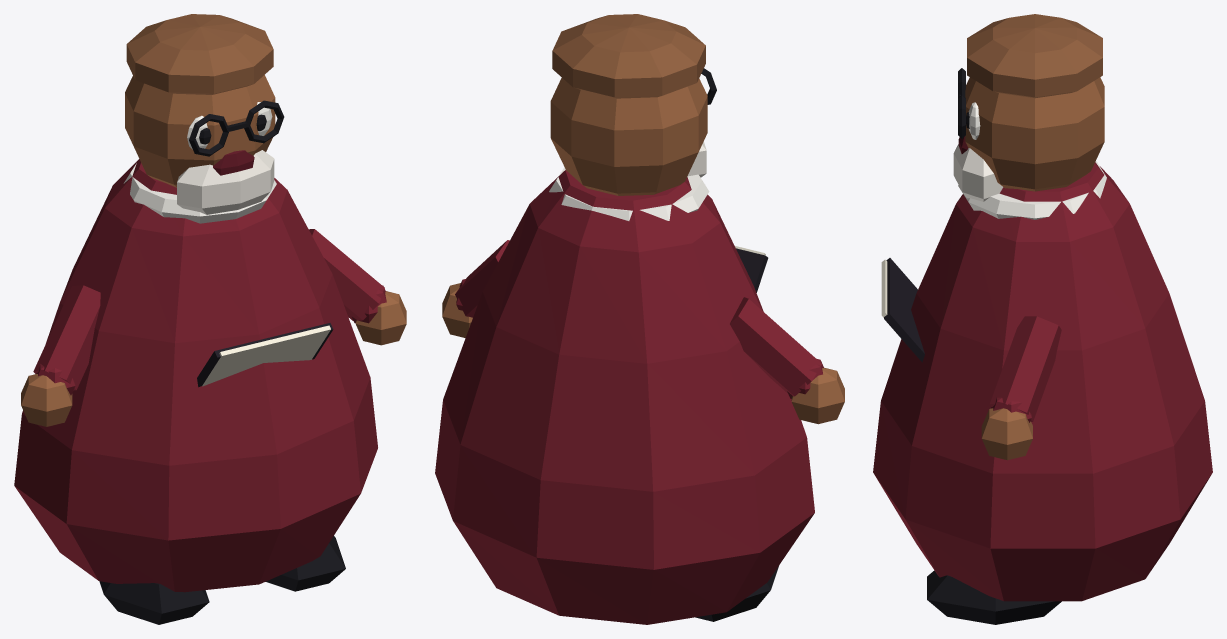
The model's file is npc_corista_b.glb.
3 views of the same model, side by side, from view 1: azimuth 30°, elevation 25°; view 2: azimuth 150°, elevation 25°; view 3: azimuth 270°, elevation 25° (orthographic). The views are drawn at different scales.
Parts seen in each view (by area): view 1: body_robe_cloth, cap_bald_cacao, head_skin_cacao, arms_robe_cloth, legs_black, face_beard, arms_skin_cacao, props_songbook_pages, body_white, face_black, props_songbook_cover, face_mouth; view 2: body_robe_cloth, head_skin_cacao, cap_bald_cacao, arms_robe_cloth, arms_skin_cacao, body_white, legs_black, props_songbook_cover; view 3: body_robe_cloth, head_skin_cacao, cap_bald_cacao, arms_robe_cloth, legs_black, arms_skin_cacao, props_songbook_cover, body_white, face_beard, face_black.
Part boxes in pixels (x1,y1,x2,y2): body_robe_cloth: [14, 159, 377, 592]; cap_bald_cacao: [126, 14, 273, 94]; head_skin_cacao: [125, 75, 275, 187]; arms_robe_cloth: [33, 229, 386, 395]; legs_black: [99, 536, 345, 624]; face_beard: [177, 150, 274, 214]; arms_skin_cacao: [21, 291, 406, 426]; props_songbook_pages: [202, 325, 330, 386]; body_white: [123, 163, 276, 223]; face_black: [189, 100, 284, 156]; props_songbook_cover: [197, 323, 333, 387]; face_mouth: [213, 150, 254, 175]; body_robe_cloth: [435, 170, 814, 624]; head_skin_cacao: [550, 77, 707, 195]; cap_bald_cacao: [552, 14, 705, 98]; arms_robe_cloth: [455, 240, 823, 398]; arms_skin_cacao: [442, 283, 844, 424]; body_white: [549, 167, 709, 220]; legs_black: [695, 566, 778, 621]; props_songbook_cover: [736, 248, 768, 292]; body_robe_cloth: [873, 162, 1212, 601]; head_skin_cacao: [965, 77, 1104, 191]; cap_bald_cacao: [967, 14, 1102, 98]; arms_robe_cloth: [990, 316, 1061, 422]; legs_black: [927, 570, 1061, 624]; arms_skin_cacao: [981, 408, 1032, 460]; props_songbook_cover: [884, 258, 924, 362]; body_white: [958, 161, 1106, 219]; face_beard: [953, 144, 1003, 201]; face_black: [958, 68, 969, 138].
Bounding box in the file's own units: 1.13 × 1.55 × 0.86.
